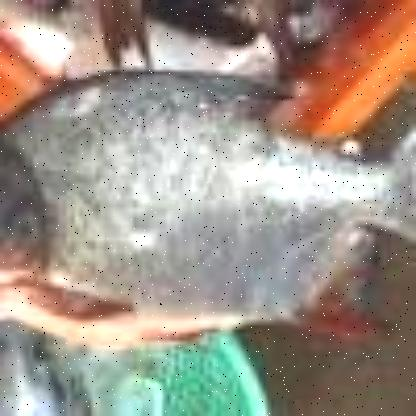ikan-pacu: (0, 75, 416, 341)
